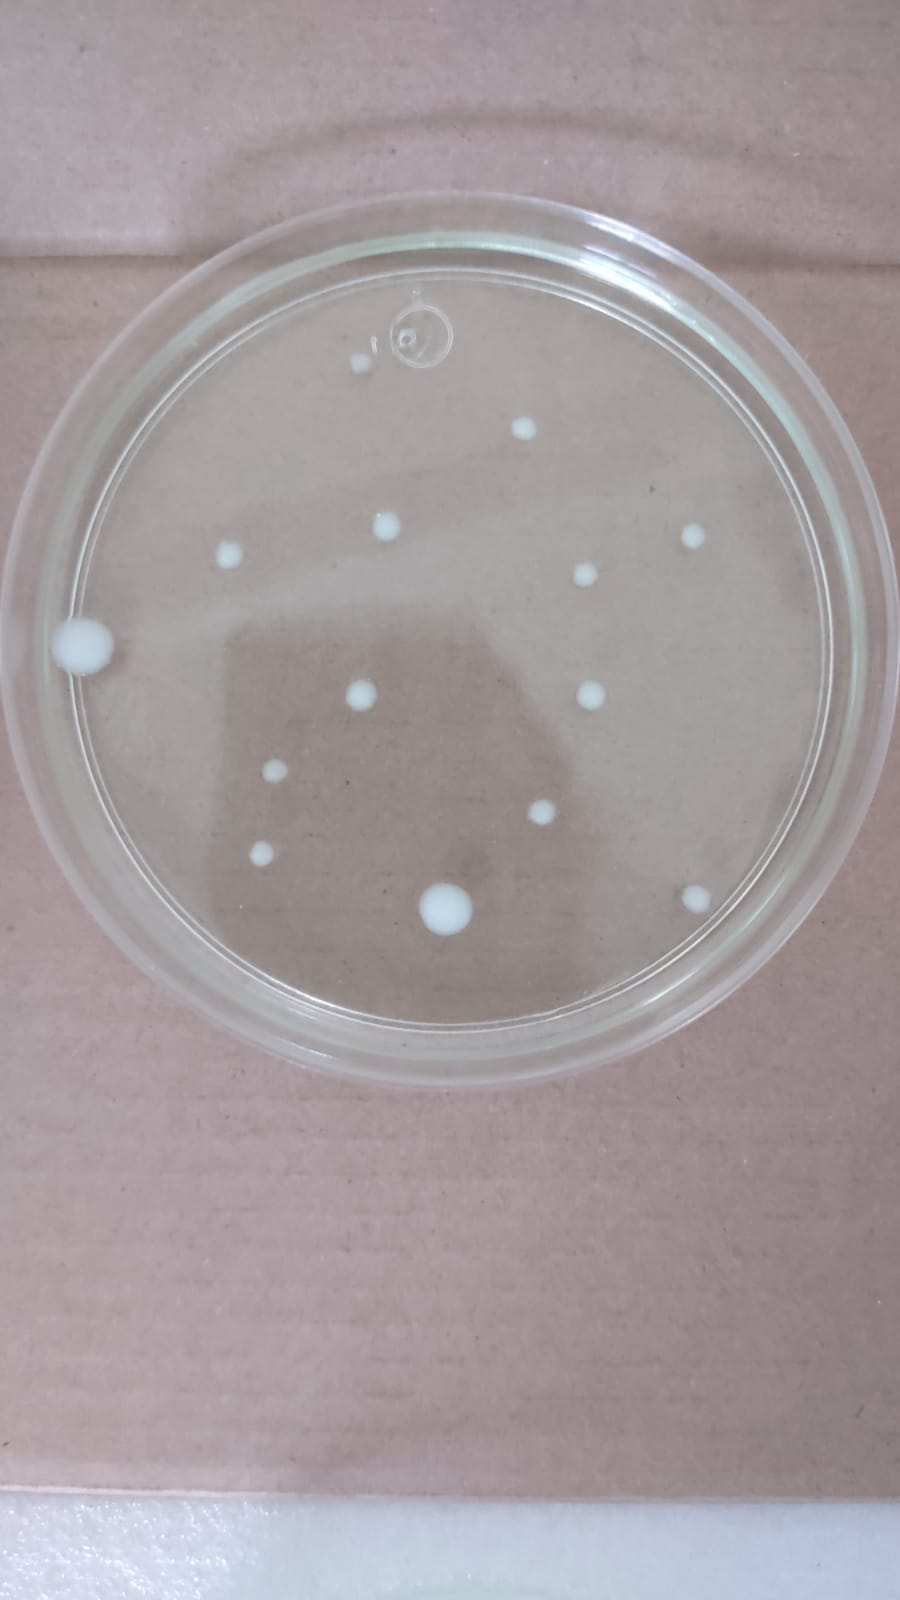Colonia: (48, 618, 116, 677), (416, 881, 473, 937), (338, 673, 384, 715), (574, 679, 610, 716), (678, 879, 715, 915), (247, 838, 284, 873), (680, 518, 712, 553), (214, 538, 248, 570), (570, 558, 605, 588), (256, 755, 289, 785), (527, 796, 556, 827), (373, 512, 403, 540), (511, 418, 540, 446), (348, 351, 378, 375)
